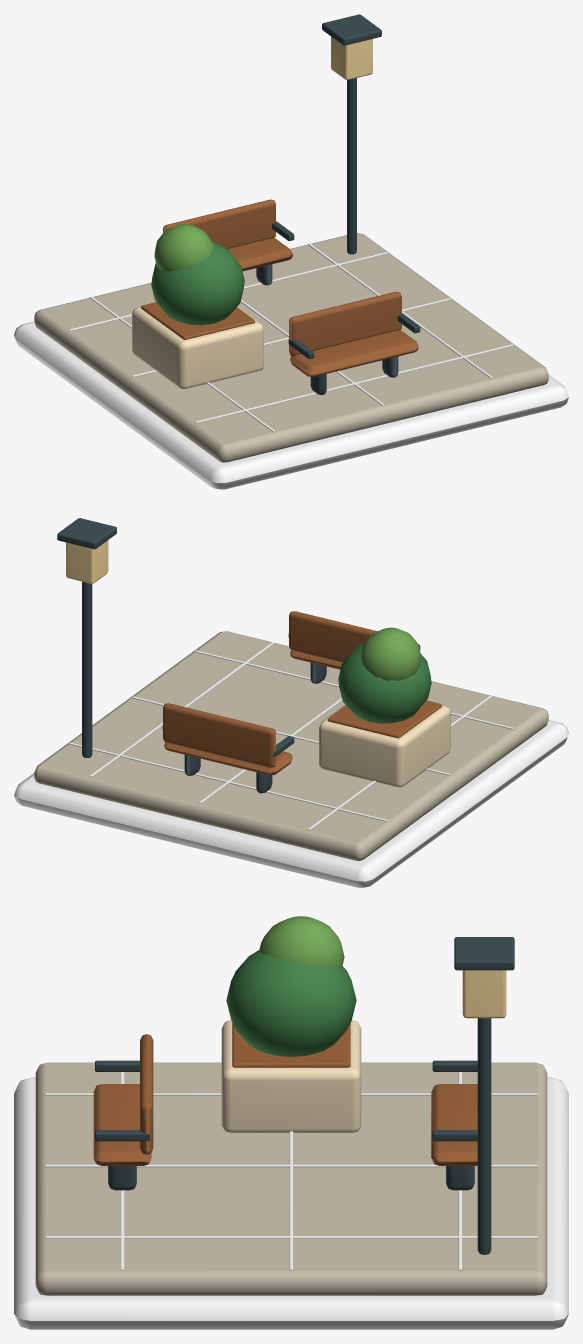
Rendered from plaza.glb.
3 views of the same model, one above another, from view 1: azimuth 30°, elevation 25°; view 2: azimuth 150°, elevation 25°; view 3: azimuth 270°, elevation 25° (orthographic). The views are drawn at different scales.
Parts seen in each view (by area): view 1: Plaza paving, Batch_Porcelain_, Batch_Honey wood_, Raised planter, Shrub, Batch_Dark metal_, Leaf tips, Lamp; view 2: Plaza paving, Batch_Porcelain_, Batch_Honey wood_, Raised planter, Shrub, Batch_Dark metal_, Leaf tips, Lamp; view 3: Plaza paving, Batch_Porcelain_, Batch_Honey wood_, Shrub, Raised planter, Batch_Dark metal_, Leaf tips, Lamp.
Part boxes in pixels (x1=…): Plaza paving: x1=34, y1=233, x2=548, y2=462; Batch_Porcelain_: x1=14, y1=243, x2=568, y2=489; Batch_Honey wood_: x1=141, y1=199, x2=418, y2=376; Raised planter: x1=132, y1=306, x2=263, y2=388; Shrub: x1=151, y1=242, x2=244, y2=325; Batch_Dark metal_: x1=256, y1=14, x2=420, y2=394; Leaf tips: x1=154, y1=224, x2=213, y2=271; Lamp: x1=331, y1=36, x2=372, y2=80; Plaza paving: x1=34, y1=631, x2=548, y2=860; Batch_Porcelain_: x1=14, y1=641, x2=568, y2=887; Batch_Honey wood_: x1=163, y1=611, x2=441, y2=775; Raised planter: x1=319, y1=704, x2=450, y2=787; Shrub: x1=338, y1=642, x2=431, y2=723; Batch_Dark metal_: x1=57, y1=518, x2=420, y2=793; Leaf tips: x1=360, y1=627, x2=421, y2=680; Lamp: x1=66, y1=540, x2=108, y2=583; Plaza paving: x1=35, y1=1062, x2=547, y2=1295; Batch_Porcelain_: x1=14, y1=1072, x2=568, y2=1329; Batch_Honey wood_: x1=93, y1=1023, x2=477, y2=1165; Shrub: x1=226, y1=950, x2=356, y2=1056; Raised planter: x1=221, y1=1020, x2=361, y2=1132; Batch_Dark metal_: x1=95, y1=937, x2=514, y2=1254; Leaf tips: x1=259, y1=916, x2=344, y2=967; Lamp: x1=462, y1=970, x2=506, y2=1018.
Bounding box in the file's own units: 2.3 × 1.63 × 2.3.
